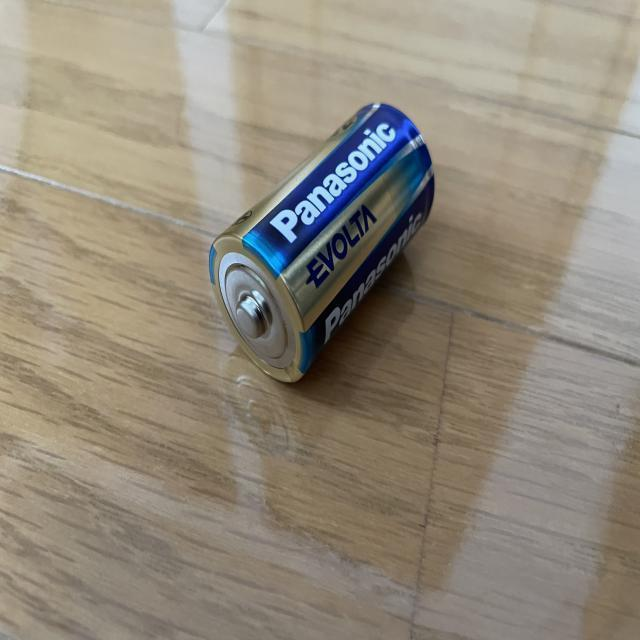Hazard: (202, 91, 440, 405)
